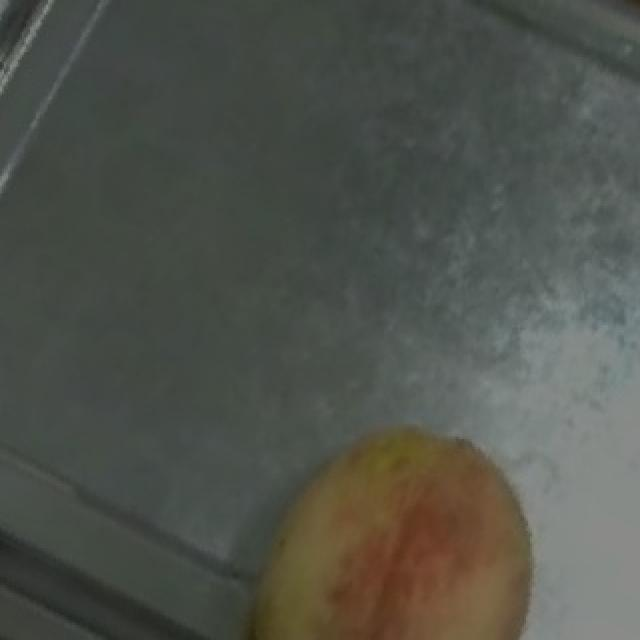Fruit: (224, 397, 564, 640)
